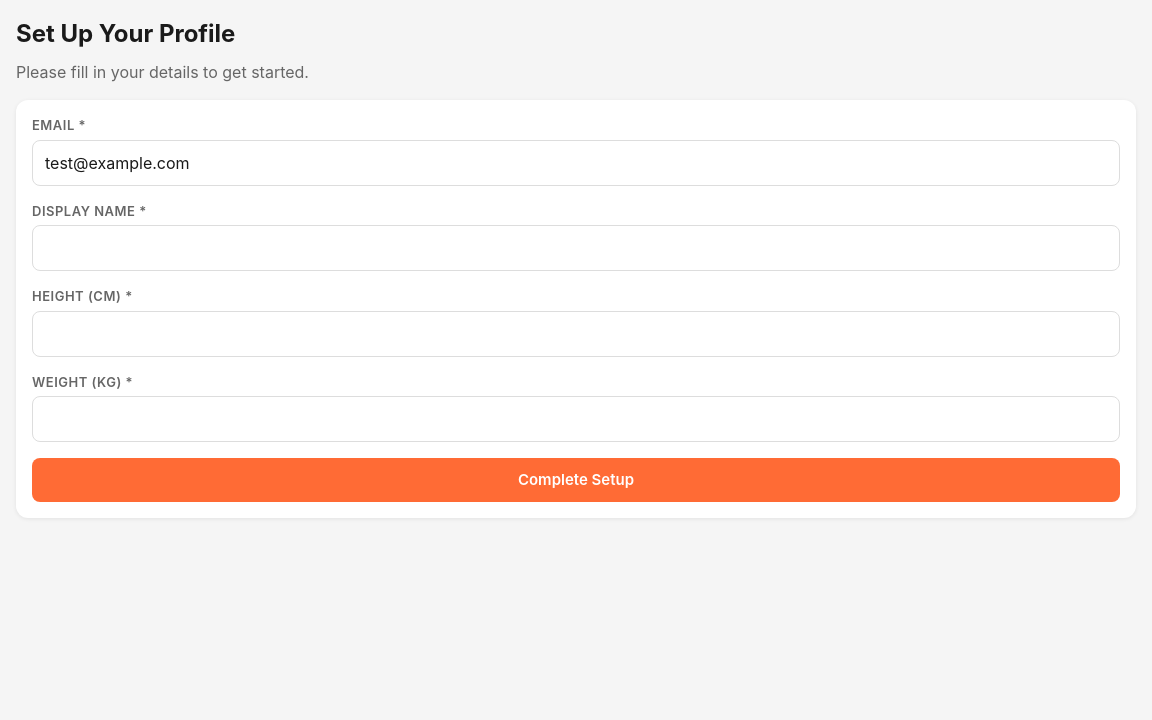
Scenario: ProfileSetupPage › shows error when updateProfile fails
Type "Test User" into the field labelled "Display Name *" at x=576, y=248, box [32,225,1120,271]
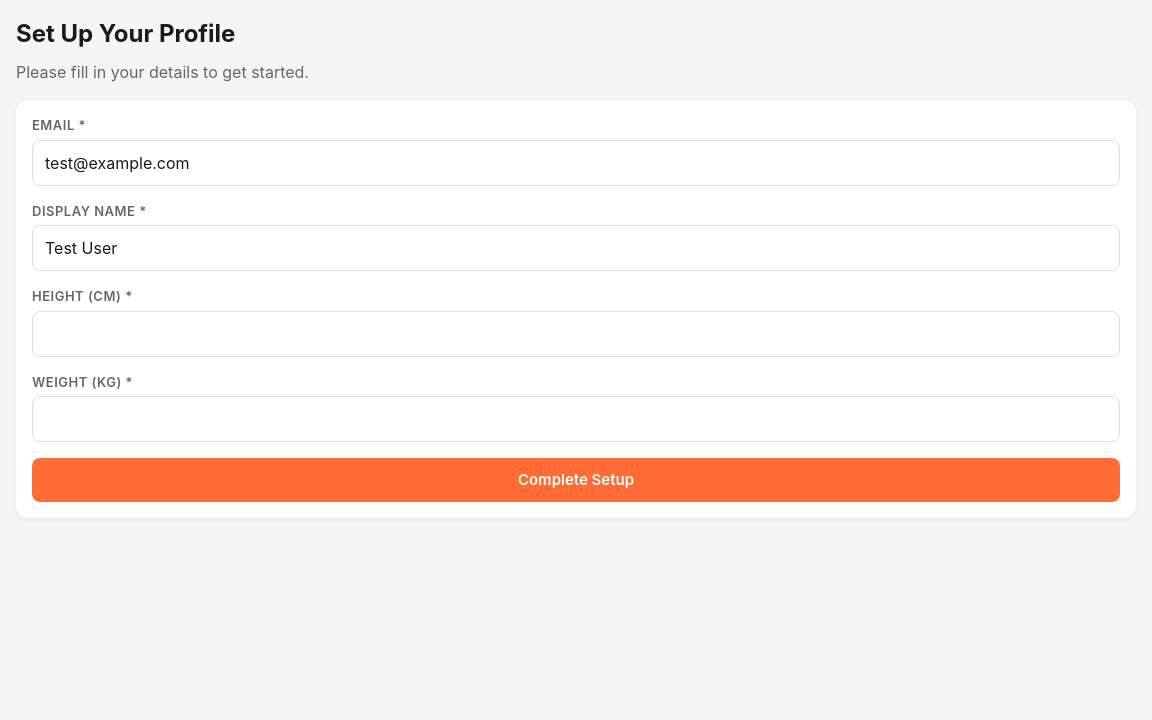
Type "180" into the number field labelled "Height (cm) *" at x=576, y=334, box [32,310,1120,356]
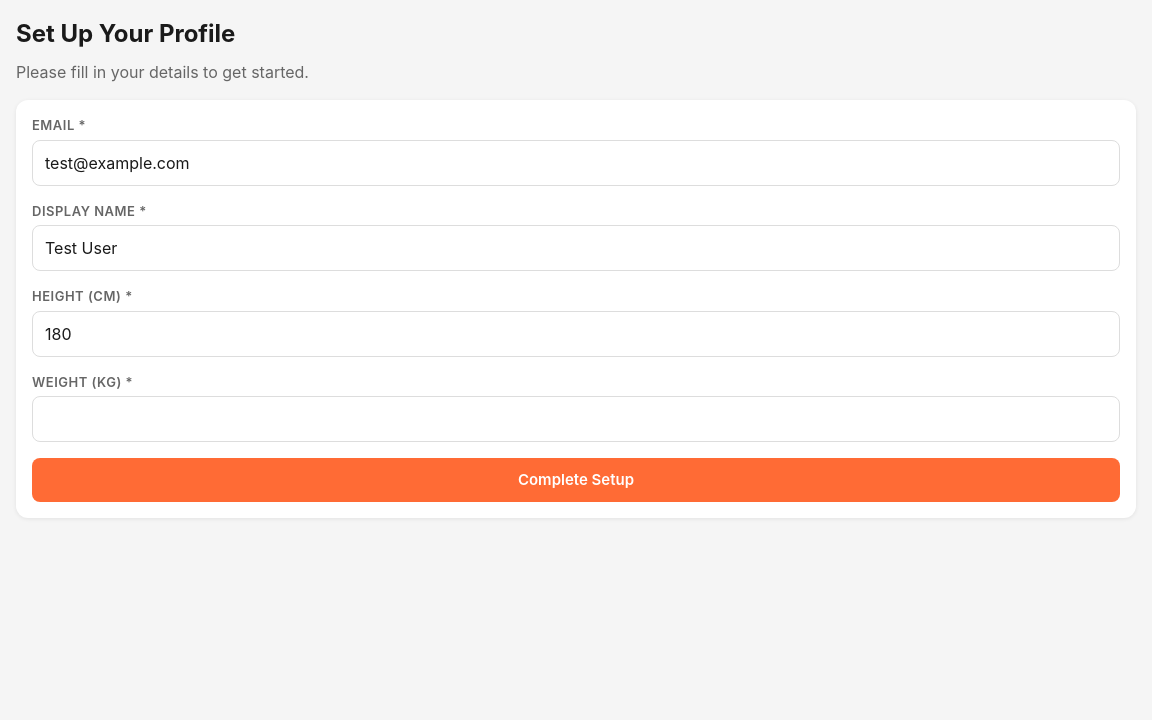
Type "75" into the number field labelled "Weight (kg) *" at x=576, y=419, box [32,396,1120,442]
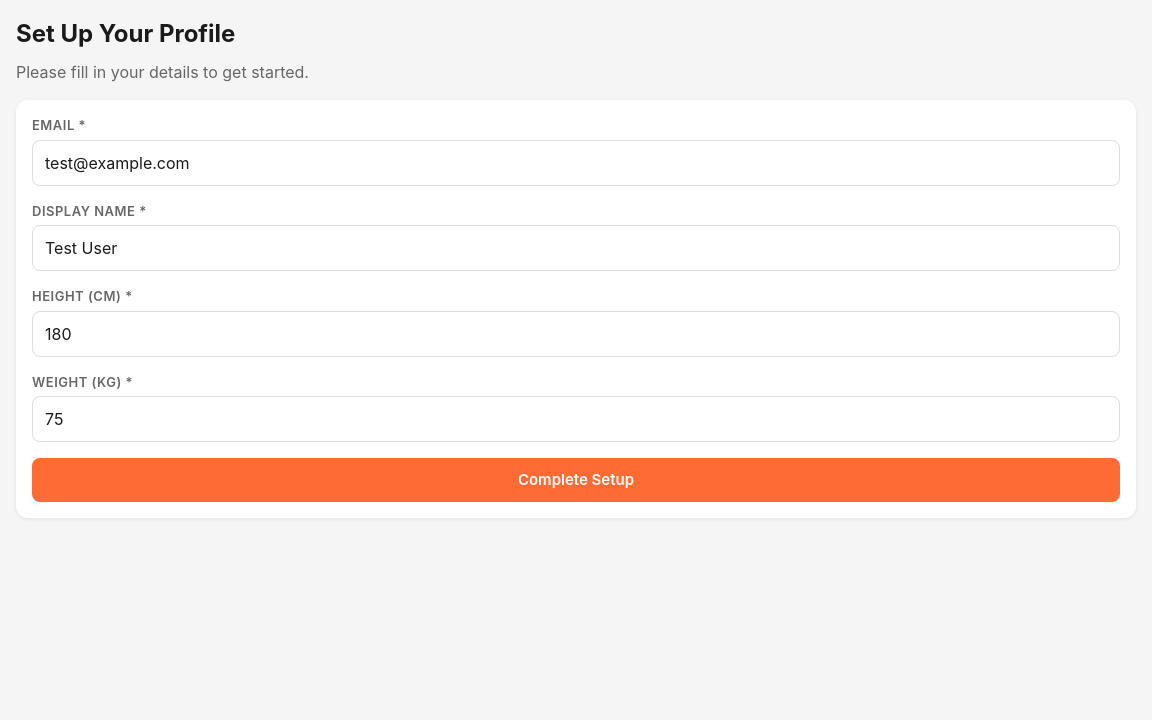
Submit the text "Complete Setup", box [16,100,1136,518]
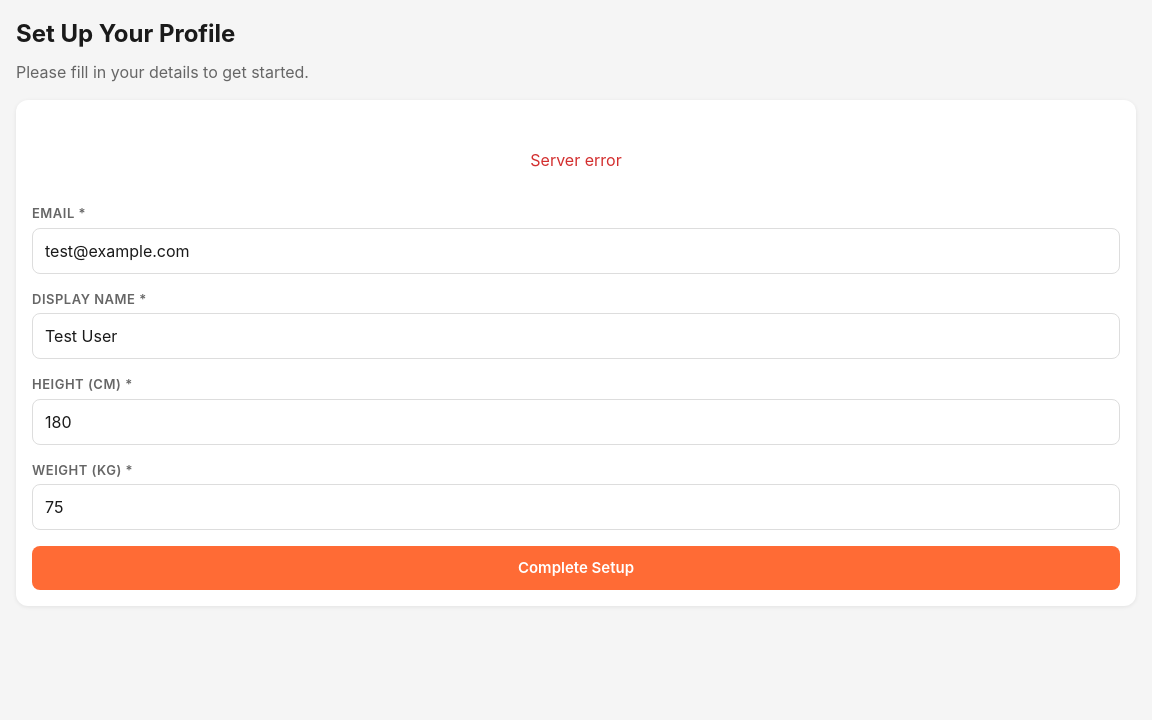
Check: the text "Server error" is shown, box [530,150,622,170]
